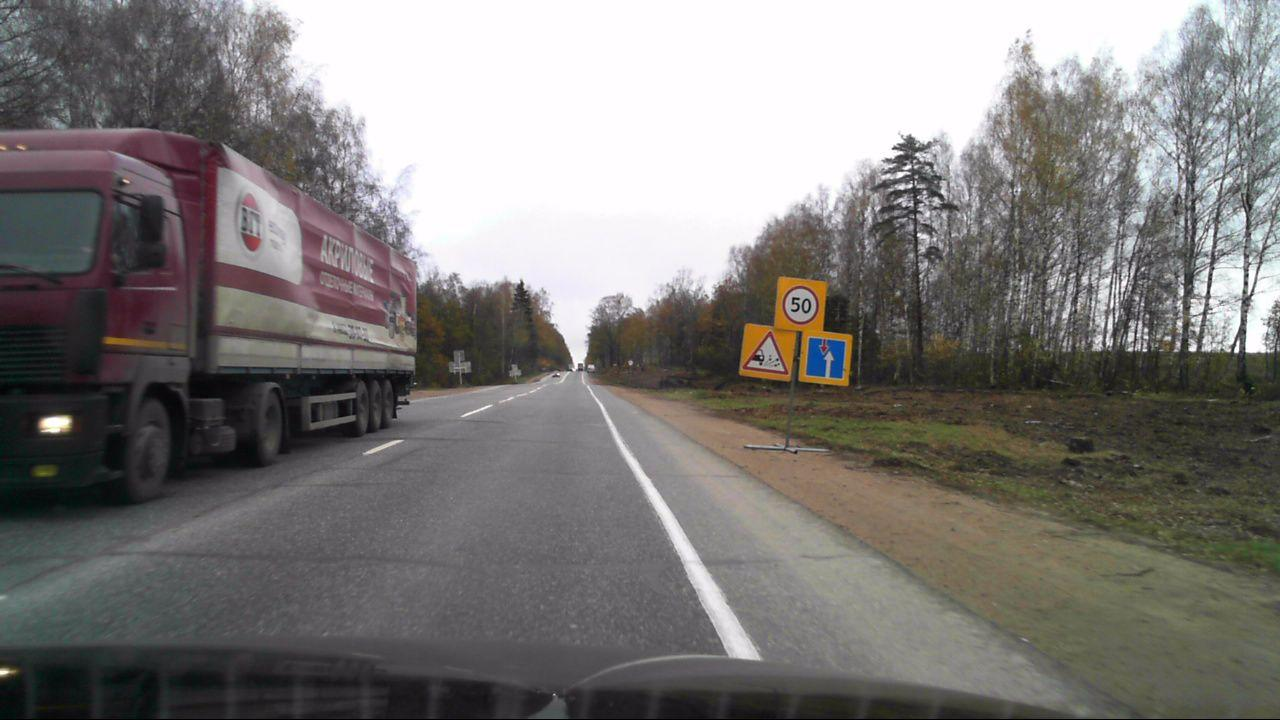1_18: (742, 328, 792, 377)
2_7: (805, 337, 846, 380)
3_24: (782, 284, 820, 324)
